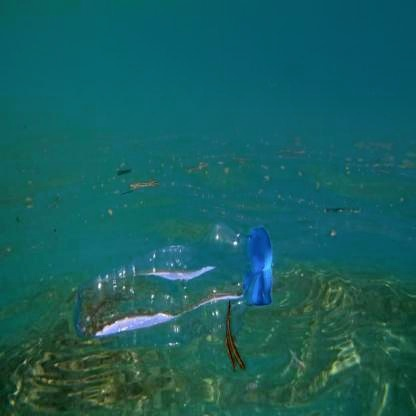pbottle: (72, 212, 278, 337)
